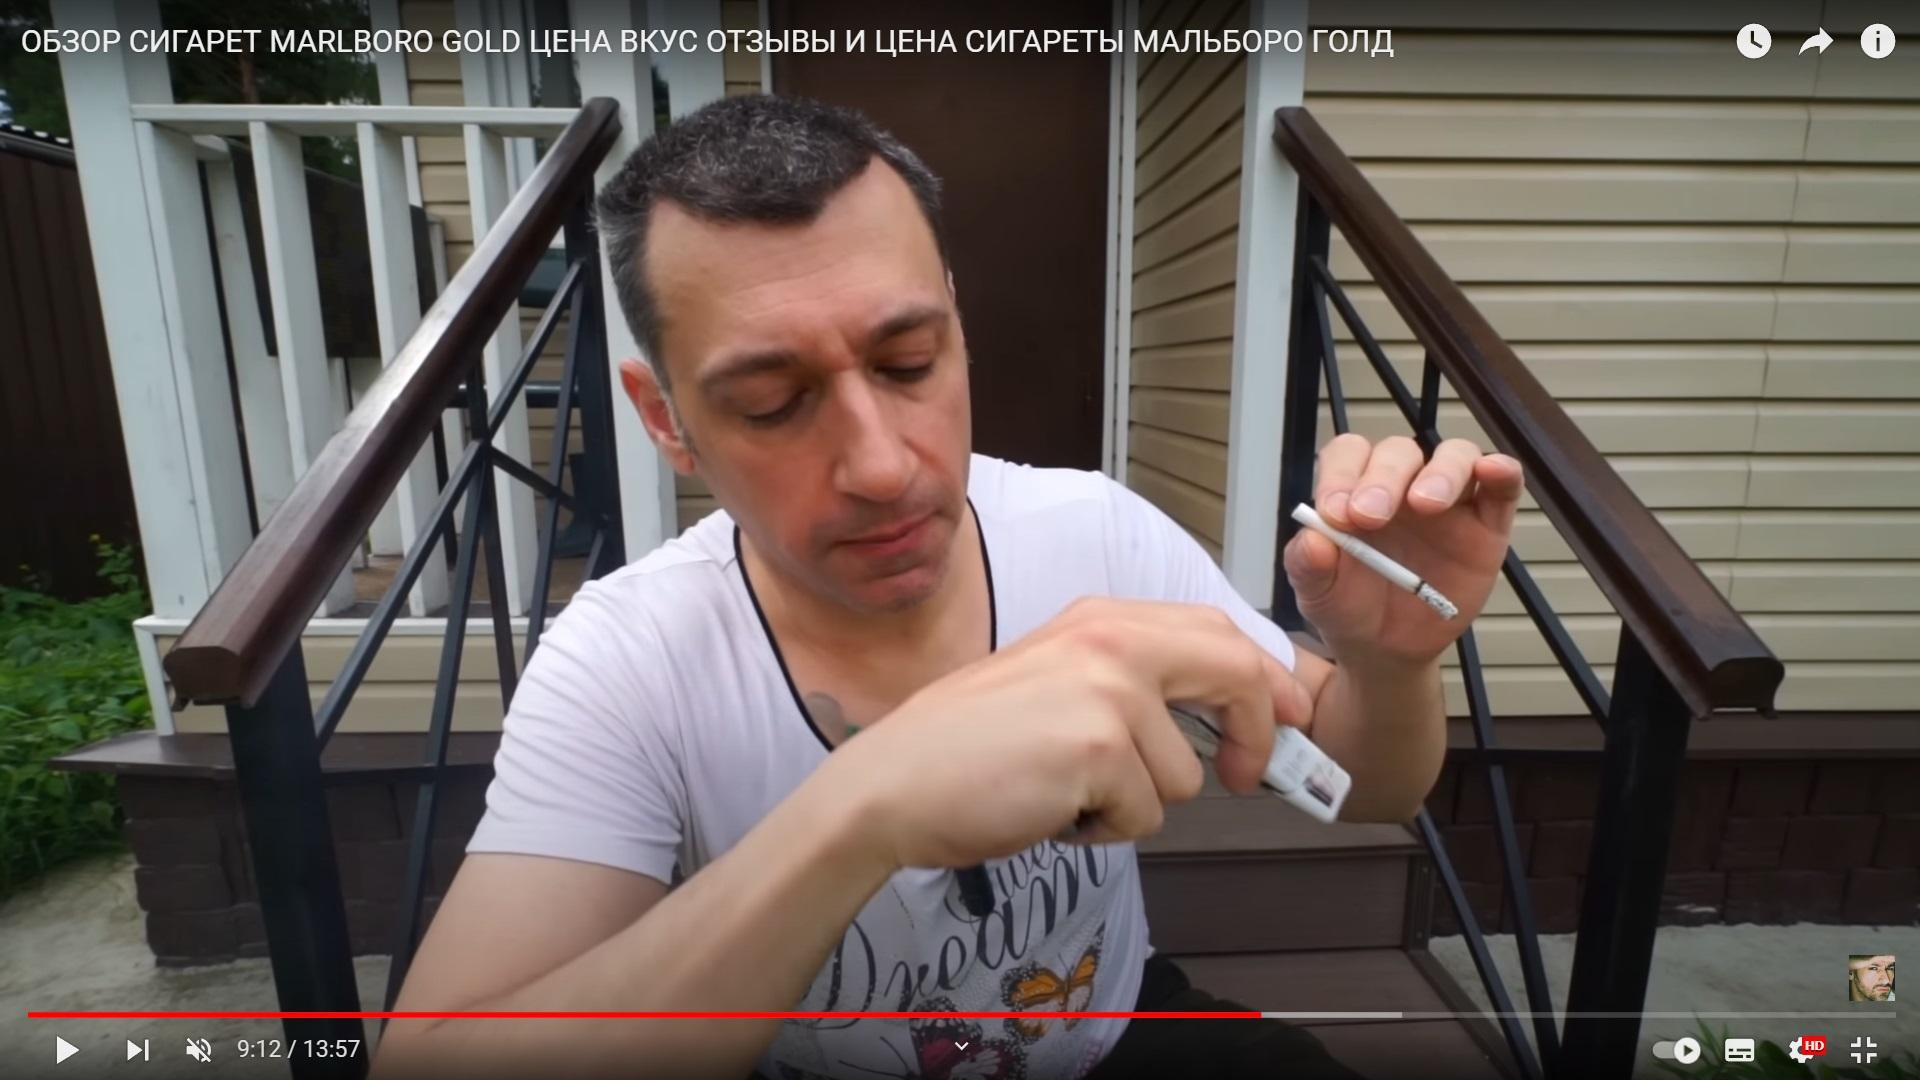cigarette: (1291, 502, 1458, 620)
